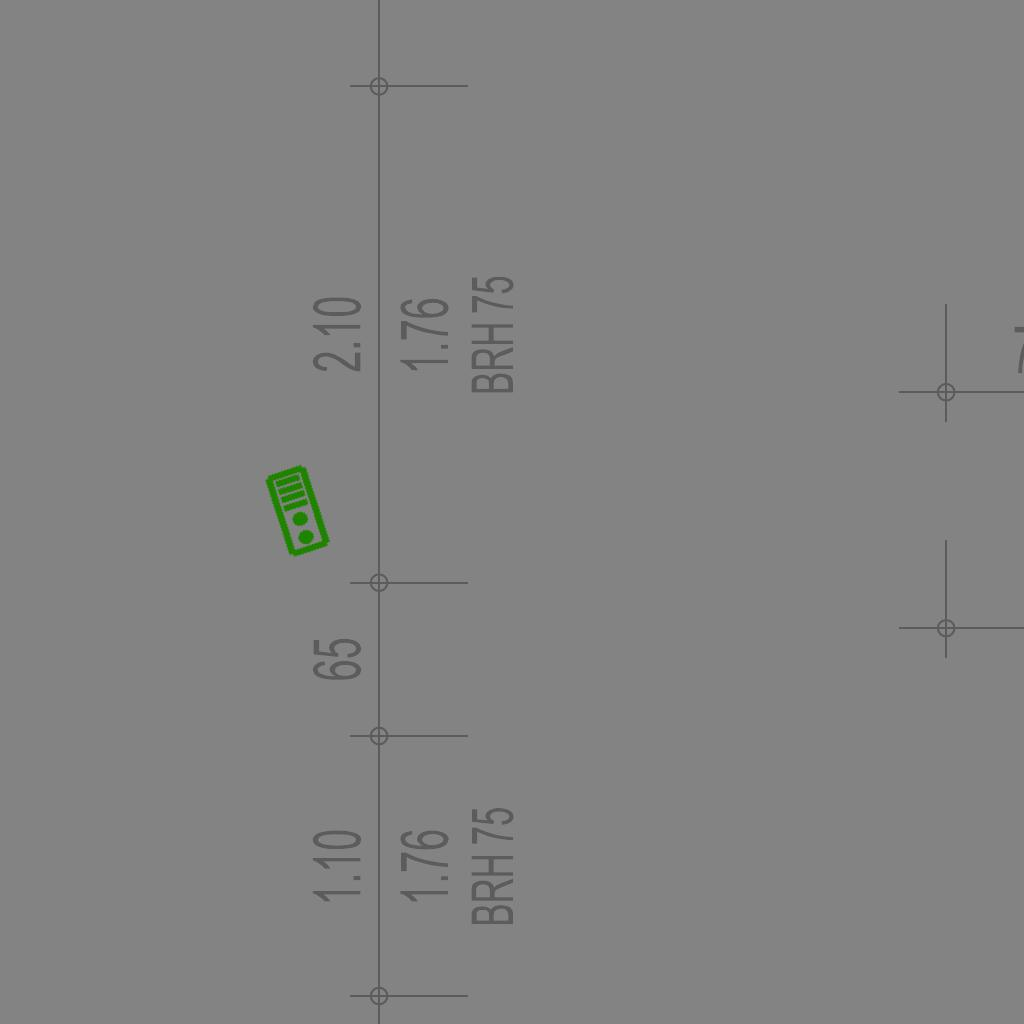Gegensprechanlage_mit_Video: (262, 461, 335, 561)
